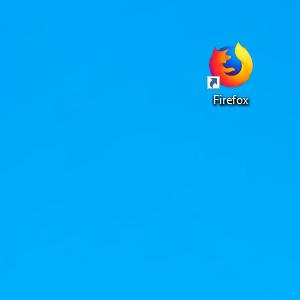firefox: (206, 41, 254, 90)
